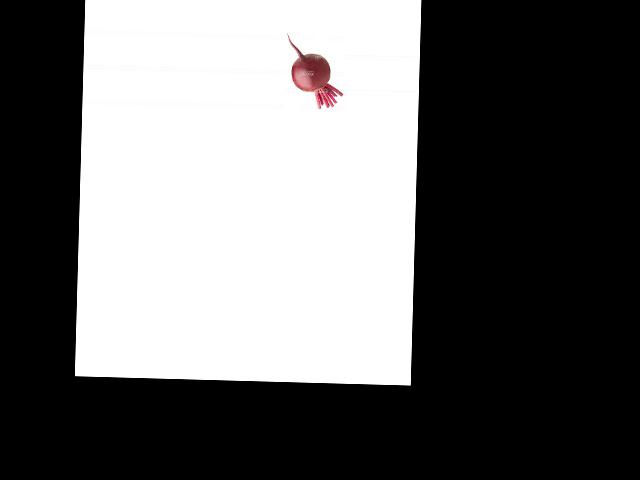beet: (285, 34, 345, 109)
